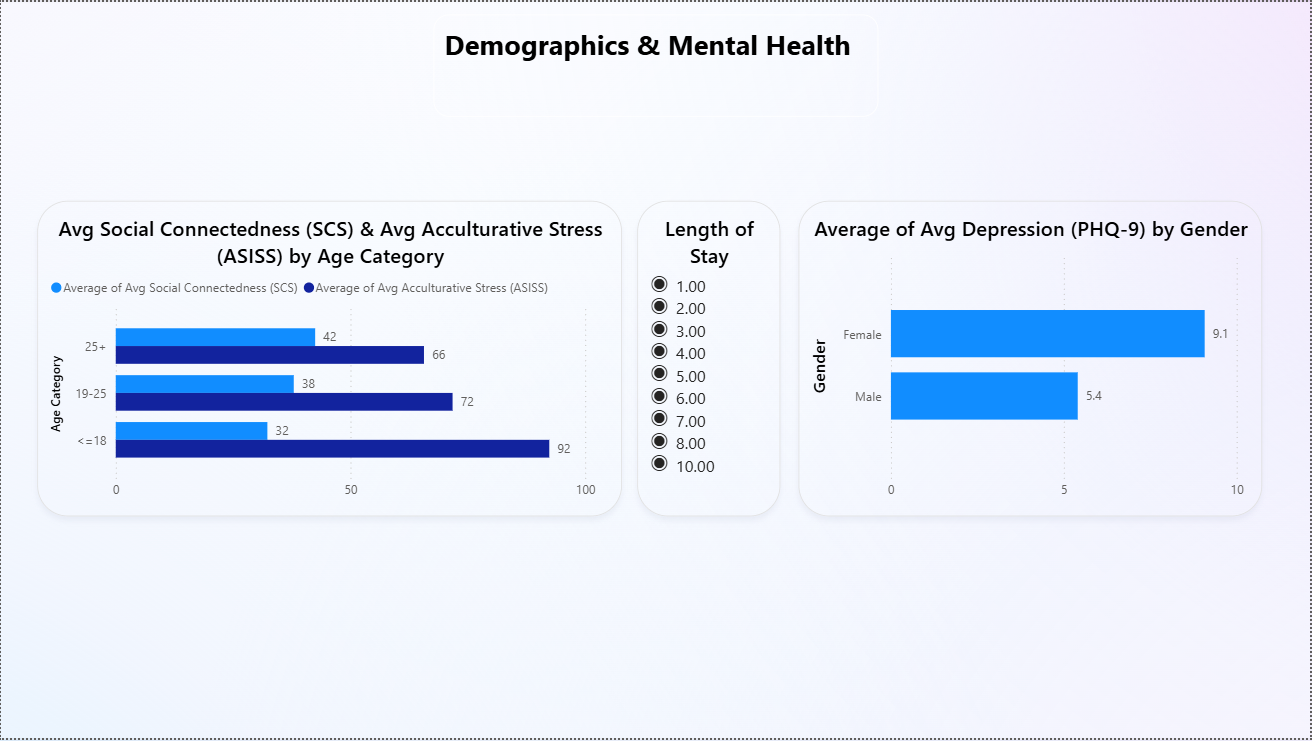

The page's visual inventory and layout, read from the dashboard file:
{"tool":"powerbi","page":{"name":"Demographics","canvas":[1280,720],"ordinal":1},"visuals":[{"type":"clusteredBarChart","title":" Avg Social Connectedness (SCS) & Avg Acculturative Stress (ASISS) by Age Category","fields":{"Category":["International_students_analysis.Age Category"],"Y":["Avg(International_students_analysis.Avg Social Connectedness (SCS))","Avg(International_students_analysis.Avg Acculturative Stress (ASISS))"]},"box":[35.8,194,572.2,308.9],"z":0},{"type":"barChart","fields":{"Category":["International_students_analysis.Gender"],"Y":["Avg(International_students_analysis.Avg Depression (PHQ-9))"]},"box":[779.8,194,453.5,308.9],"z":1000},{"type":"textbox","box":[422.6,12.4,435,100.1],"z":2000},{"type":"listSlicer","fields":{"Values":["International_students_analysis.Length of Stay"]},"box":[622.8,194,139.6,308.9],"z":3000}]}

Visuals, with their boxes in screenshot pixels (x1, y1, x2, y2), scaled from the page's 1280x720 canvas onto the 1312x741 screenshot:
" Avg Social Connectedness (SCS) & Avg Acculturative Stress (ASISS) by Age Category" clusteredBarChart: 37 200 623 518
barChart - International_students_analysis.Gender x Avg(International_students_analysis.Avg Depression (PHQ-9)): 799 200 1264 518
textbox: 433 13 879 116
listSlicer - International_students_analysis.Length of Stay: 638 200 781 518
